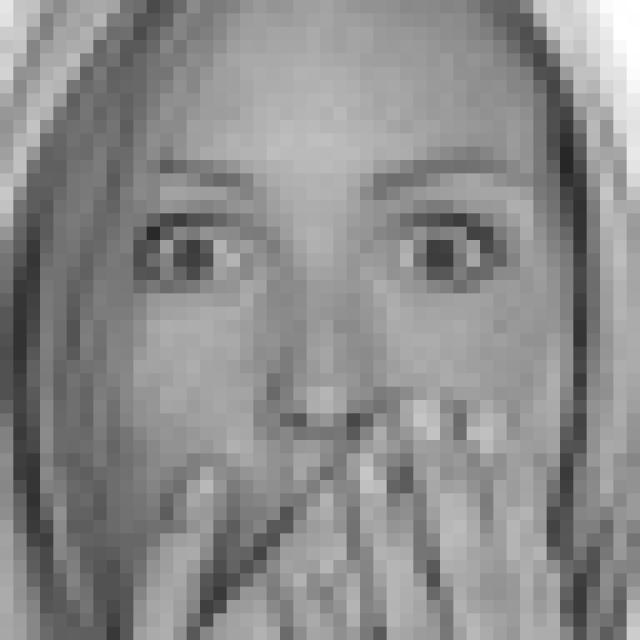fear: (131, 147, 552, 594)
